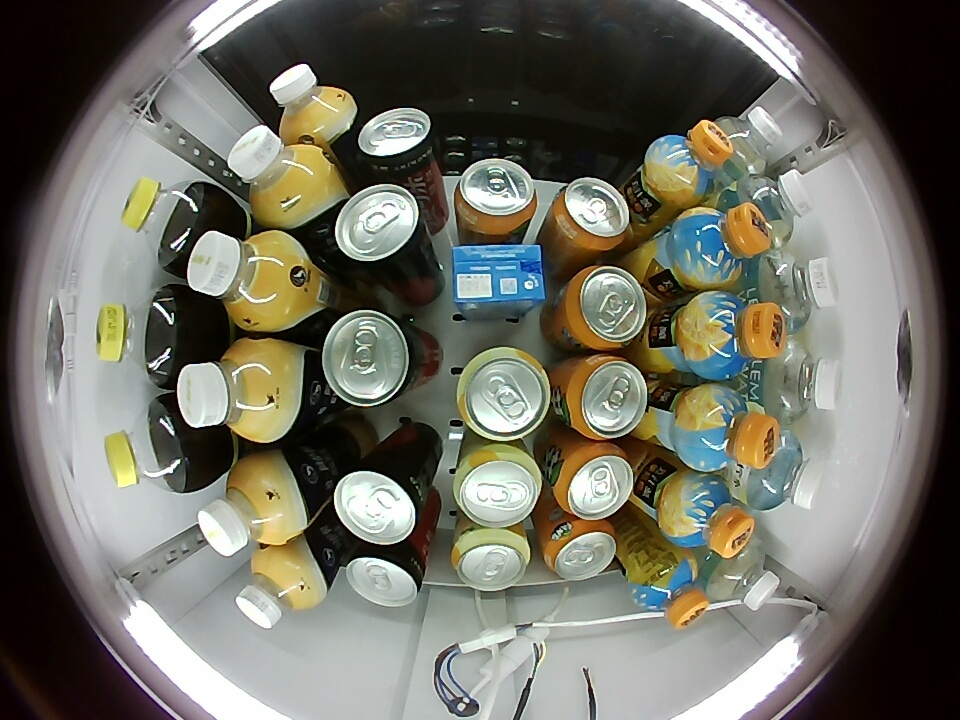asamu: (176, 338, 283, 441), (186, 229, 296, 326), (196, 461, 292, 558), (227, 125, 322, 221), (269, 62, 353, 140), (235, 551, 314, 630)
baishikele: (103, 396, 191, 494), (96, 287, 178, 386), (120, 176, 206, 269)
fenda: (565, 354, 648, 440), (565, 265, 647, 351), (555, 443, 635, 520), (456, 157, 537, 232), (553, 176, 630, 252), (545, 520, 617, 581)
guolicheng: (685, 291, 788, 381), (680, 384, 780, 471), (674, 205, 772, 290), (664, 472, 756, 557), (646, 120, 732, 203), (629, 551, 709, 628)
lingdukele: (317, 309, 424, 408), (331, 183, 429, 278), (333, 451, 429, 546), (355, 107, 436, 179), (345, 538, 426, 608)
mangguoxiaolao: (457, 347, 552, 441), (453, 444, 543, 528), (452, 528, 531, 592)
qinningshui: (759, 249, 839, 330), (745, 432, 823, 513), (766, 338, 841, 421), (737, 168, 814, 242), (704, 540, 781, 613), (710, 106, 784, 178)
weitanai: (451, 244, 546, 309)
